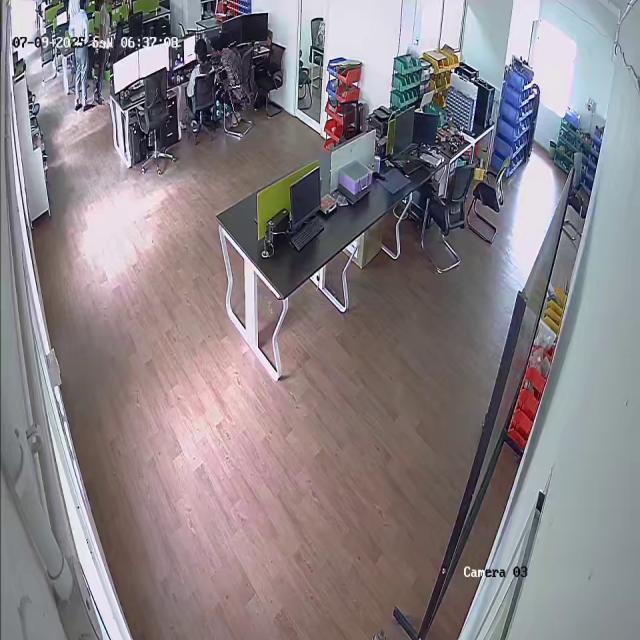person: (211, 32, 249, 113), (70, 0, 95, 112), (94, 0, 111, 105)
